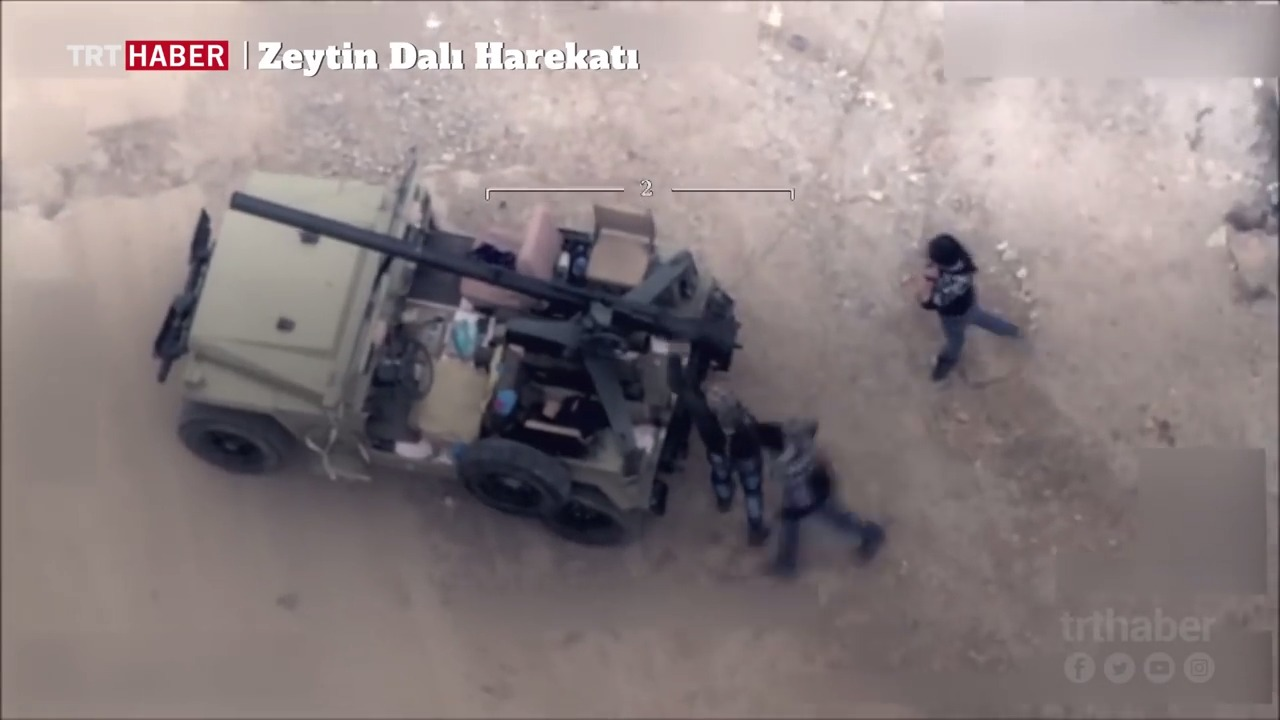arac: (139, 154, 737, 555)
insan: (768, 412, 871, 577), (912, 230, 1010, 396), (695, 375, 766, 562)
